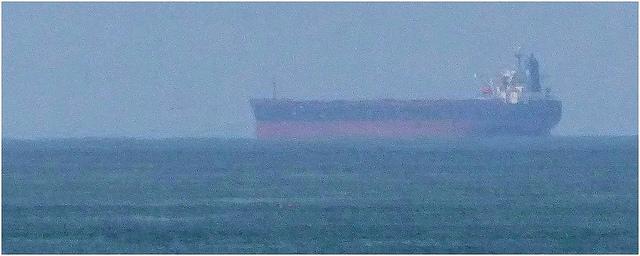bulk carrier: (249, 53, 570, 136)
